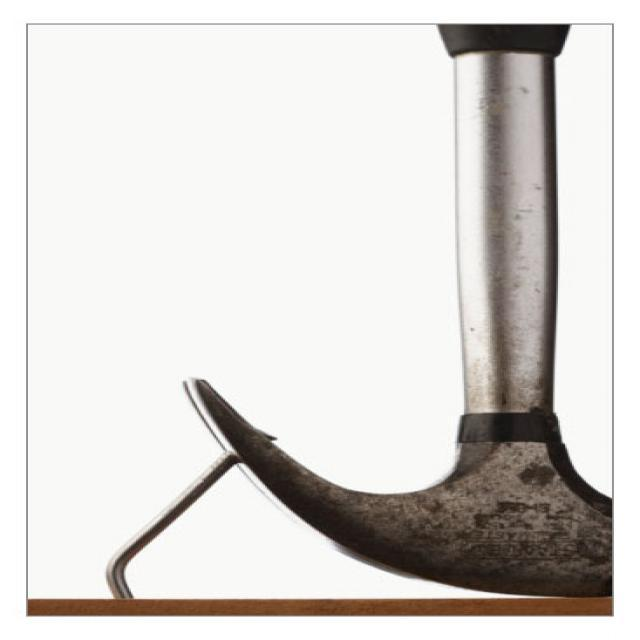hammer: (177, 21, 616, 598)
